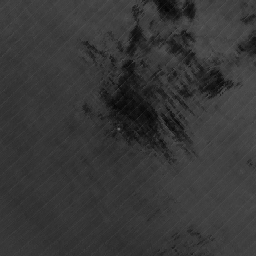Target: (116, 126, 122, 132)
